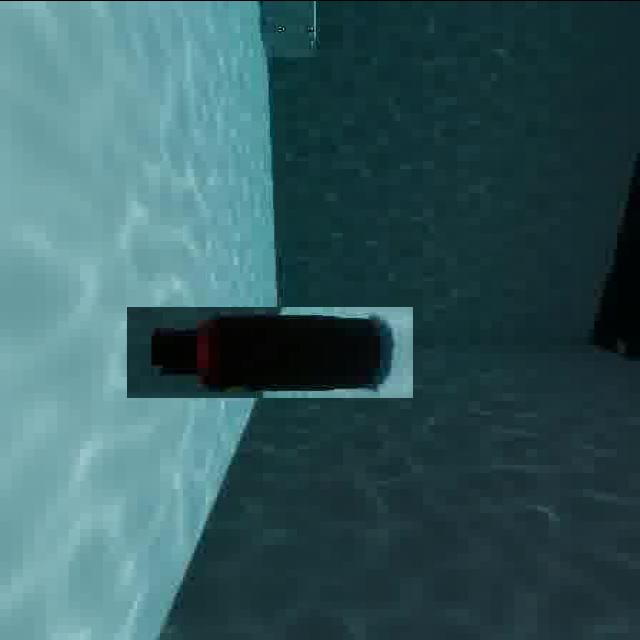Cylinder: (127, 306, 414, 398)
Docking Station: (253, 0, 331, 62)
